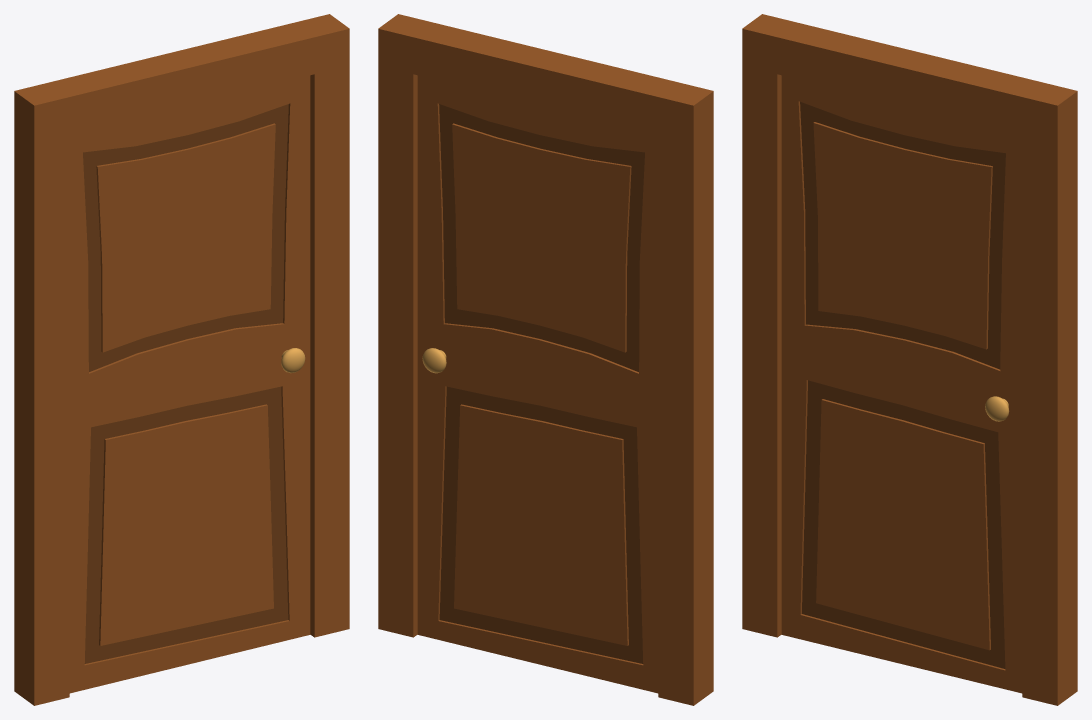
File: Door2glb.glb
3 renders of one model, left to right at view 1: azimuth 30°, elevation 25°; view 2: azimuth 150°, elevation 25°; view 3: azimuth 330°, elevation 25°, orthographic.
Visible parts, largest first — view 1: Door, Door_frame; view 2: Door, Door_frame; view 3: Door, Door_frame.
Part boxes in pixels (left/top/right/bottom): Door: left=69, top=75, right=310, bottom=693; Door_frame: left=14, top=14, right=349, bottom=705; Door: left=417, top=75, right=658, bottom=693; Door_frame: left=378, top=14, right=713, bottom=705; Door: left=781, top=75, right=1022, bottom=693; Door_frame: left=742, top=14, right=1077, bottom=705.
Size of the model in its own units: 1.14 by 2.07 by 0.1936.
1 material, 1 textured.
